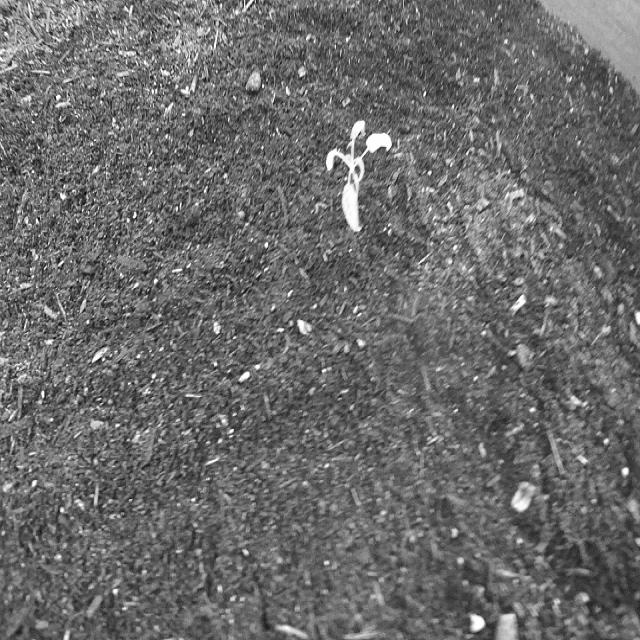Healthy: (318, 108, 397, 243)
